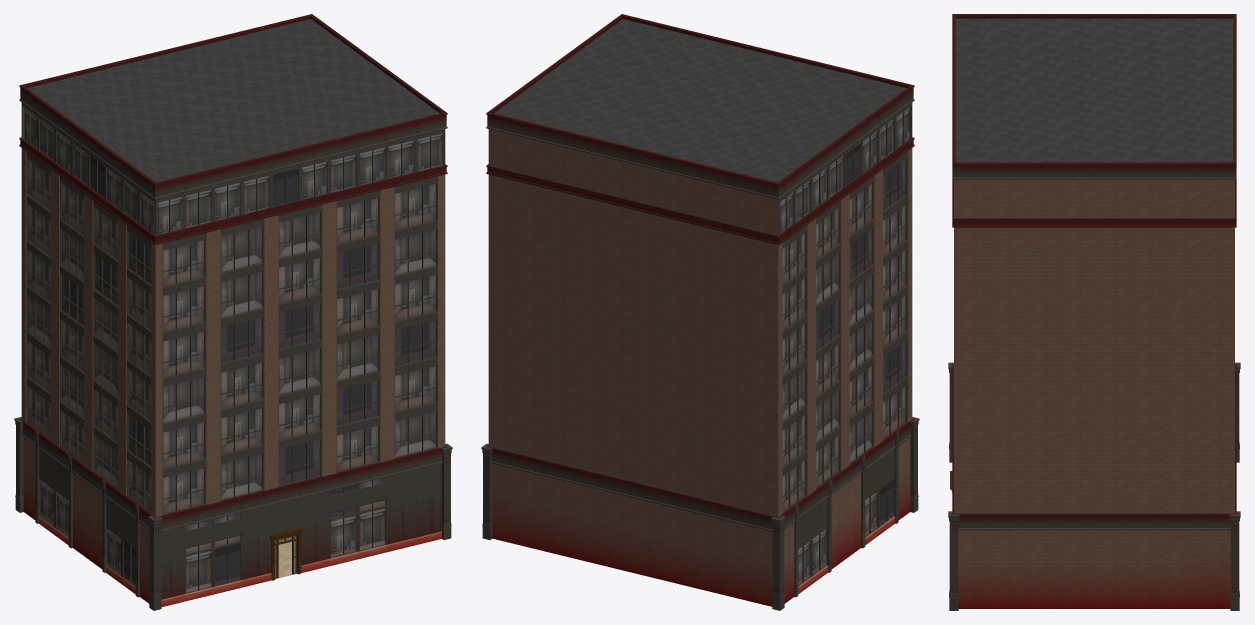
File: b_large.glb
3 renders of one model, left to right at view 1: azimuth 30°, elevation 25°; view 2: azimuth 150°, elevation 25°; view 3: azimuth 270°, elevation 25°, orthographic. The views are drawn at different scales.
Parts seen in each view (by area): view 1: Building_Large_2; view 2: Building_Large_2; view 3: Building_Large_2.
Part boxes in pixels (x1,y1,x2,y2): Building_Large_2: [14, 14, 452, 610]; Building_Large_2: [481, 14, 919, 610]; Building_Large_2: [948, 14, 1240, 610].
Size of the model in its own units: 20.64 by 28 by 16.64.
9 materials, 8 textured.
